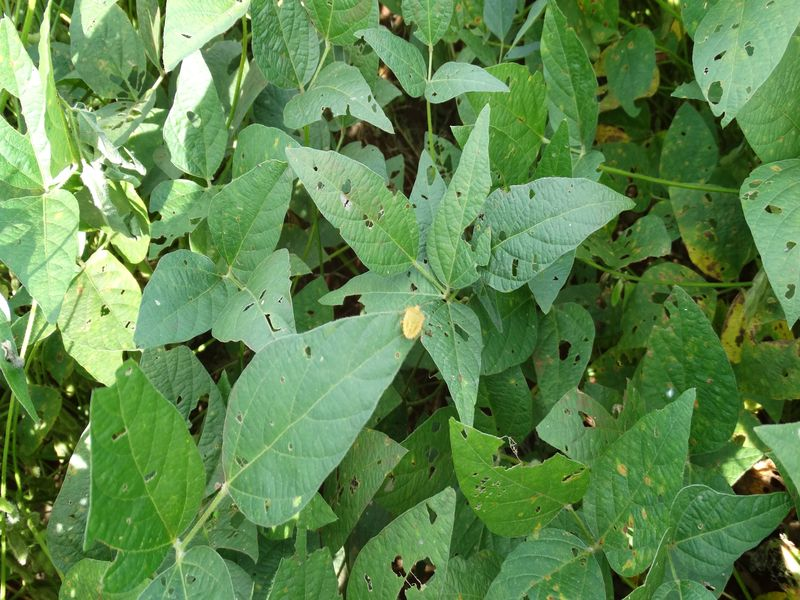Euschistus_heros_ninfa: (389, 299, 435, 345)
